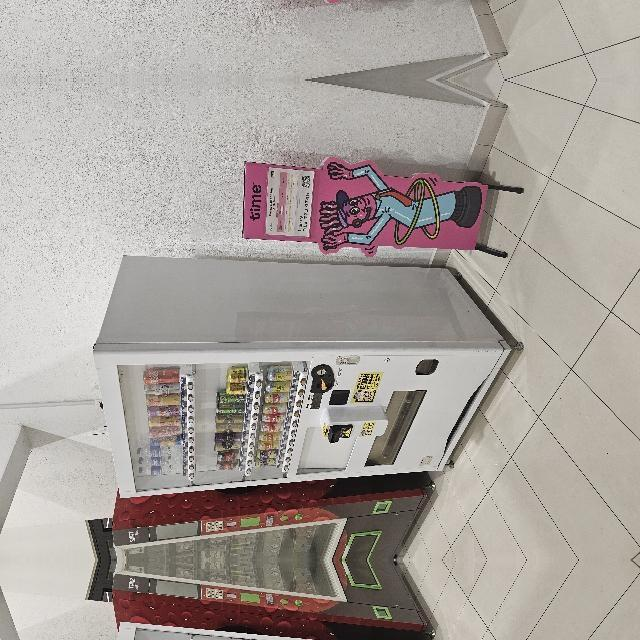obstacle: (58, 171, 306, 605), (298, 306, 404, 618), (58, 515, 305, 640), (0, 190, 86, 518), (298, 502, 403, 640), (0, 602, 85, 640)
